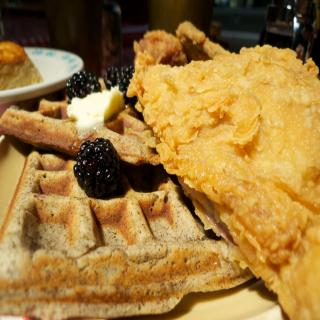Waffle: (0, 148, 255, 320), (0, 74, 159, 168)
